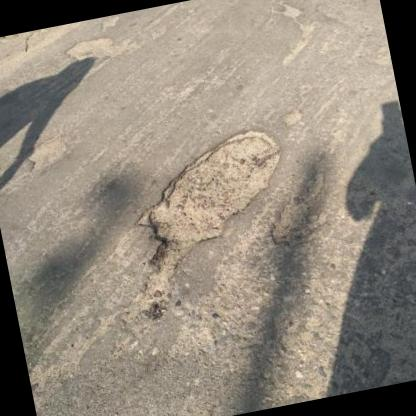pothole: (111, 122, 304, 298), (258, 166, 340, 249), (261, 0, 324, 68), (18, 132, 76, 174), (63, 32, 125, 70), (279, 106, 305, 128), (99, 13, 122, 31)
